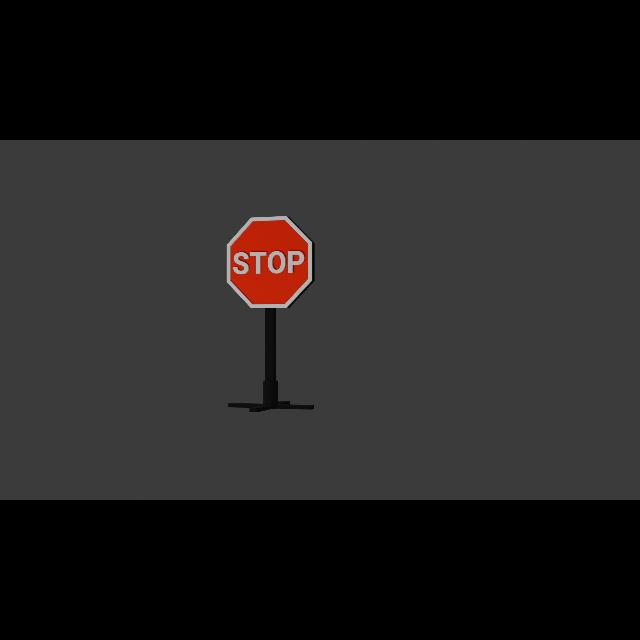sign_stop: (227, 217, 313, 307)
